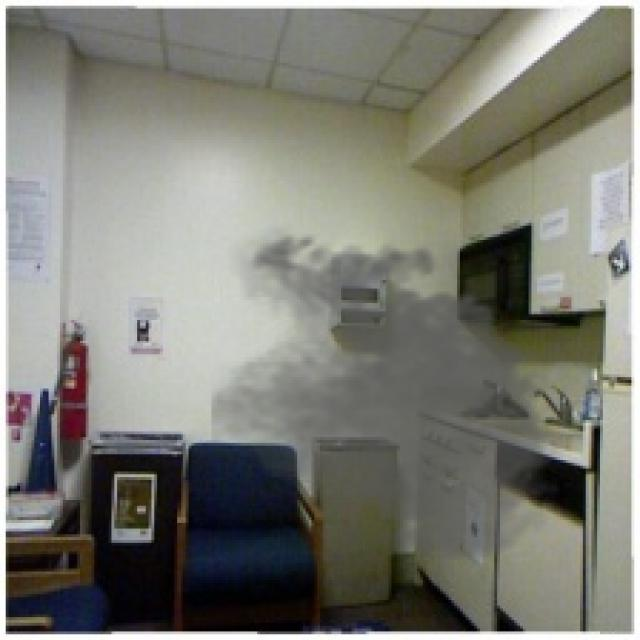smoke: (211, 223, 580, 568)
